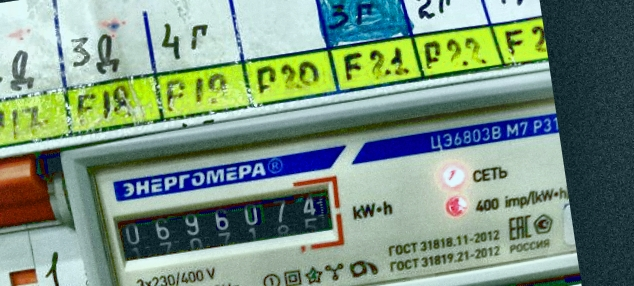0: (120, 219, 142, 245), (240, 199, 260, 226)
4: (298, 191, 317, 215)
5: (302, 216, 320, 233)
6: (212, 203, 232, 232), (152, 214, 172, 241)
7: (270, 196, 291, 223)
9: (181, 209, 201, 237)
screen: (101, 170, 349, 273)
